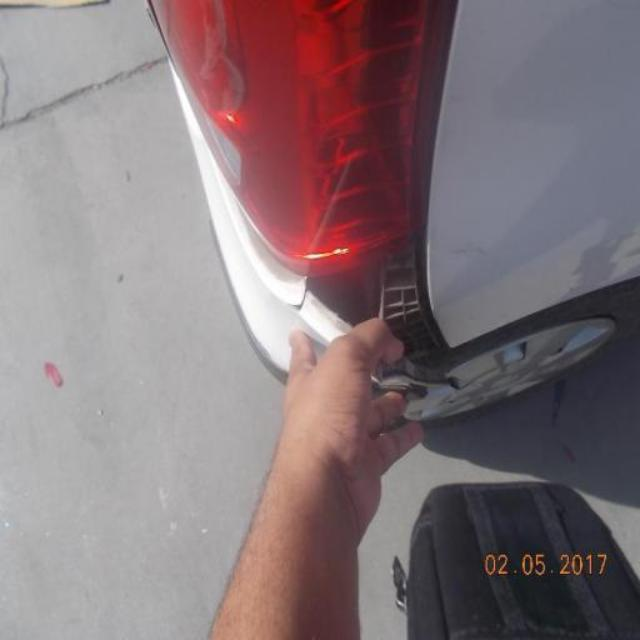dislocated part: (305, 241, 461, 387)
